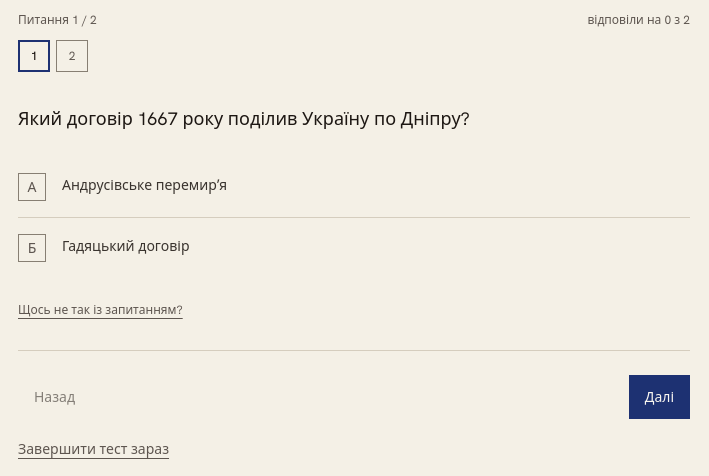
Test: QuizSessionPage › saves an answer as soon as it is chosen
Click the radio button labelled "А Андрусівське перемирʼя": (145, 185) [18,157,690,218]
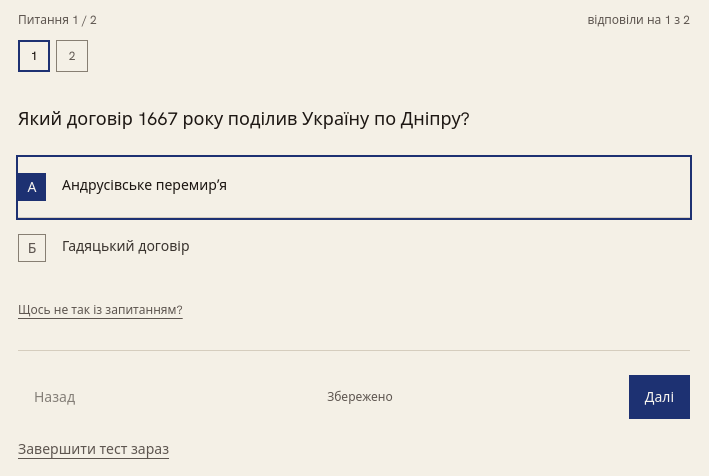
Expected: the text "Збережено" is shown, [327,389,393,405]
